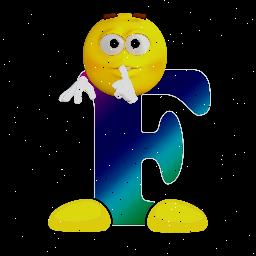f: (82, 67, 208, 211)
